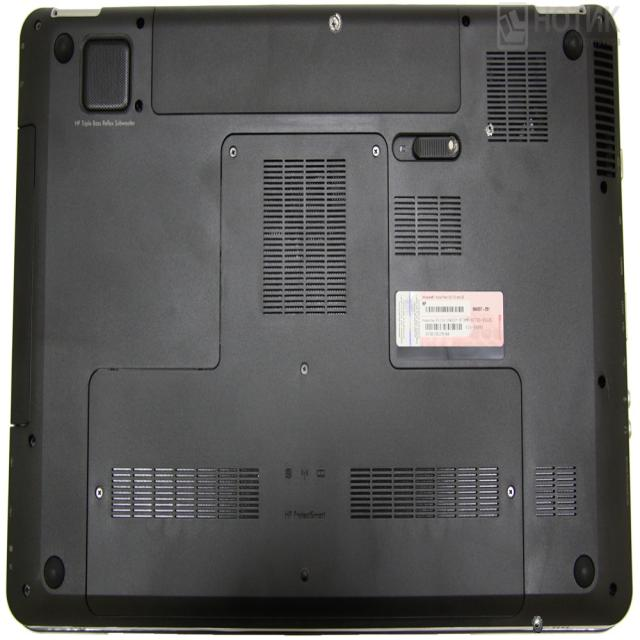lock: (328, 12, 341, 32)
missing_screw: (445, 135, 458, 155), (531, 615, 543, 633), (484, 122, 493, 136)
